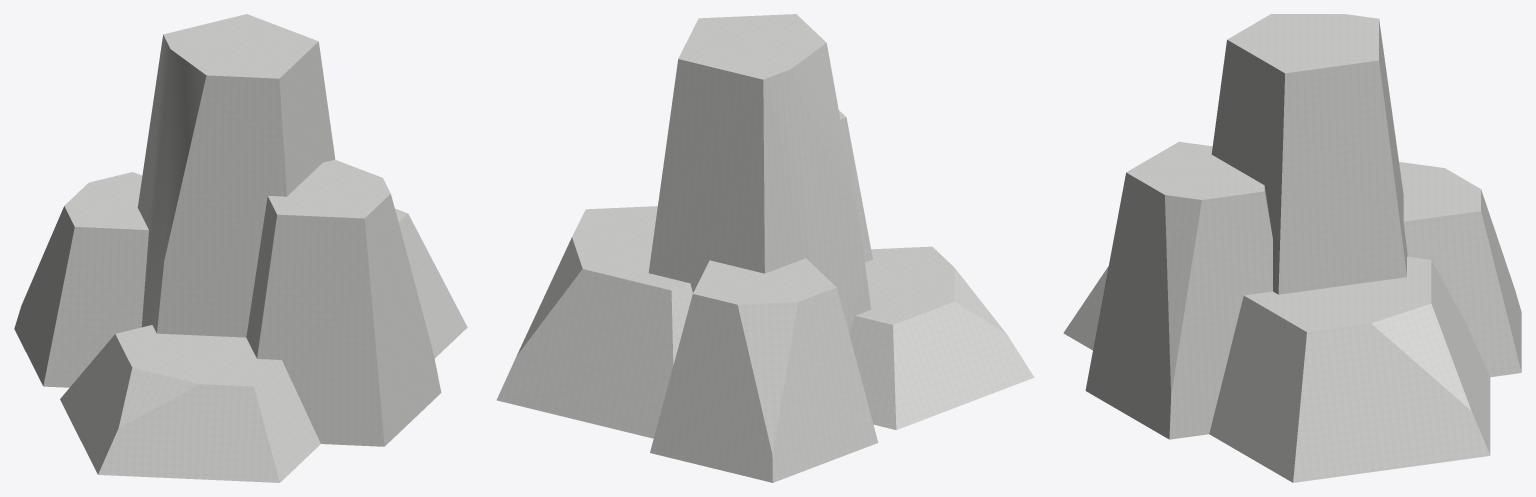
The model's file is Rock1.obj.
The picture shows the model from 3 angles, left to right: view 1: azimuth 30°, elevation 25°; view 2: azimuth 150°, elevation 25°; view 3: azimuth 270°, elevation 25°; orthographic projection. The views are drawn at different scales.
Visible parts, largest first — view 1: Rock1:rockLarge; view 2: Rock1:rockLarge; view 3: Rock1:rockLarge.
Part boxes in pixels (x1,y1,x2,y2): Rock1:rockLarge: (14,14,467,482); Rock1:rockLarge: (496,14,1034,482); Rock1:rockLarge: (1063,14,1521,482).
Size of the model in its own units: 1.6 by 1.16 by 1.45.
